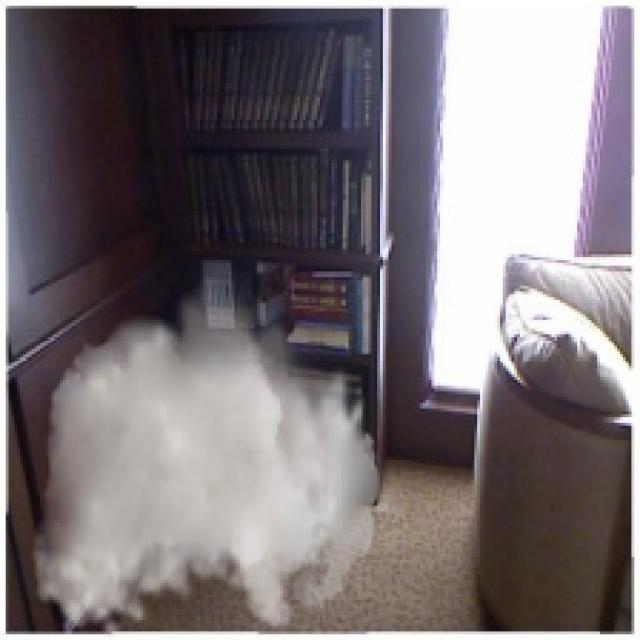Smoke: (31, 268, 383, 638)
